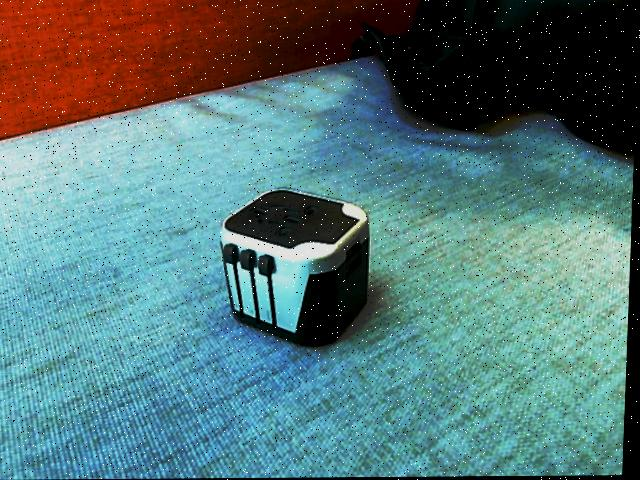adapter: (216, 187, 374, 348)
